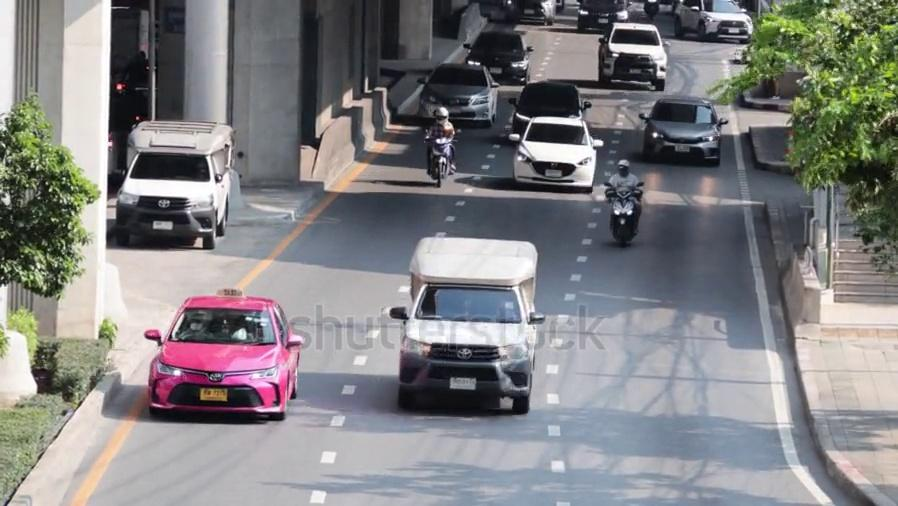rider: (604, 158, 641, 232), (424, 106, 456, 177)
with_helmate: (430, 108, 449, 124), (617, 159, 630, 177)
